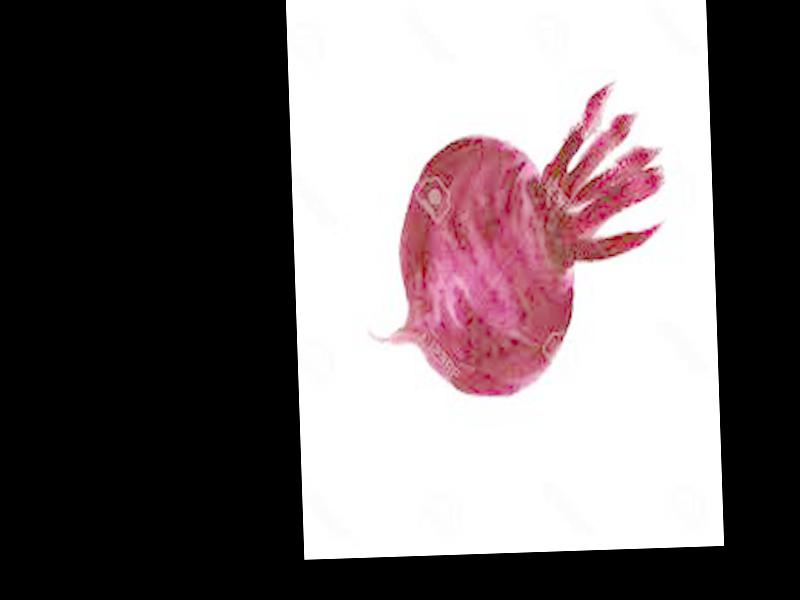Beet: (358, 81, 671, 403)
